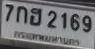letters: (30, 8, 42, 26), (70, 13, 80, 31), (82, 15, 92, 33), (17, 6, 27, 23), (5, 4, 14, 22), (47, 11, 56, 28), (61, 12, 67, 29)
province: (14, 31, 80, 46)
